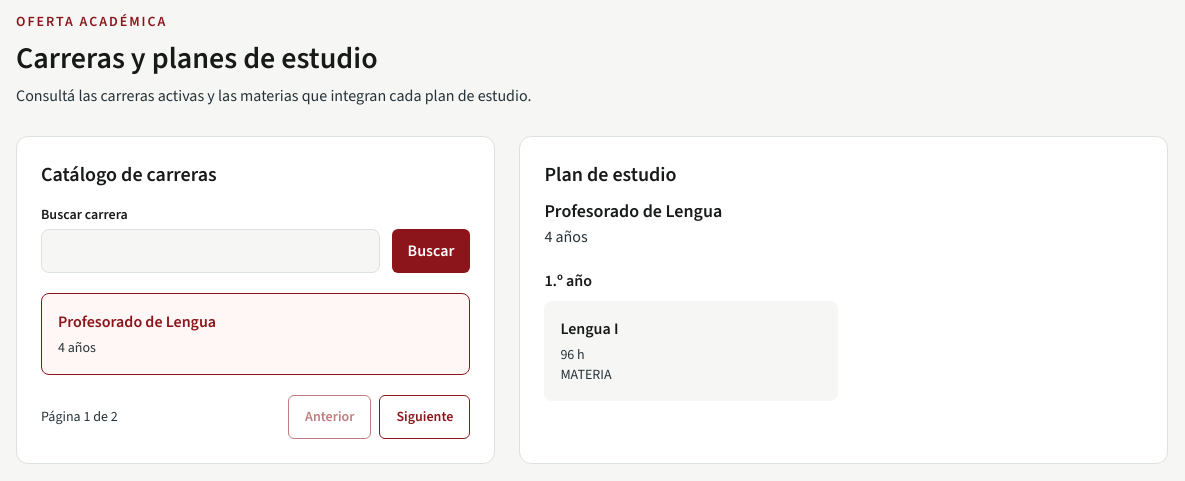
CareerCatalogView › changes pages with the active search and disables pagination boundaries
Check: the text "Página 1 de 2" is shown, box [41,407,118,427]
Check: the button "Anterior" is disabled, box [288,395,372,439]
Click the button "Siguiente": click(425, 417) [380,395,470,439]
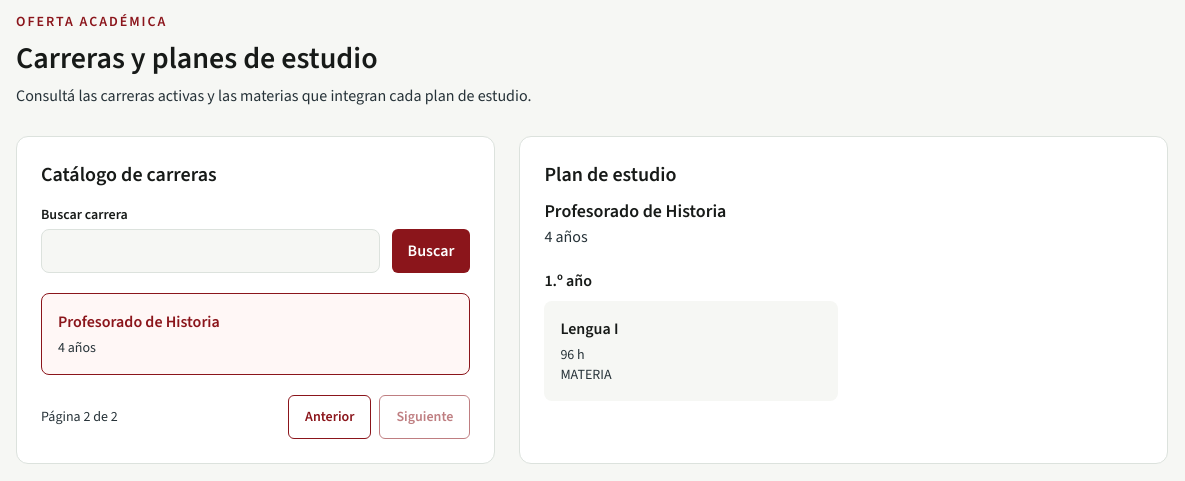
Check: the text "Página 2 de 2" is shown, box [41,407,118,427]
Check: the button "Siguiente" is disabled, box [380,395,470,439]
